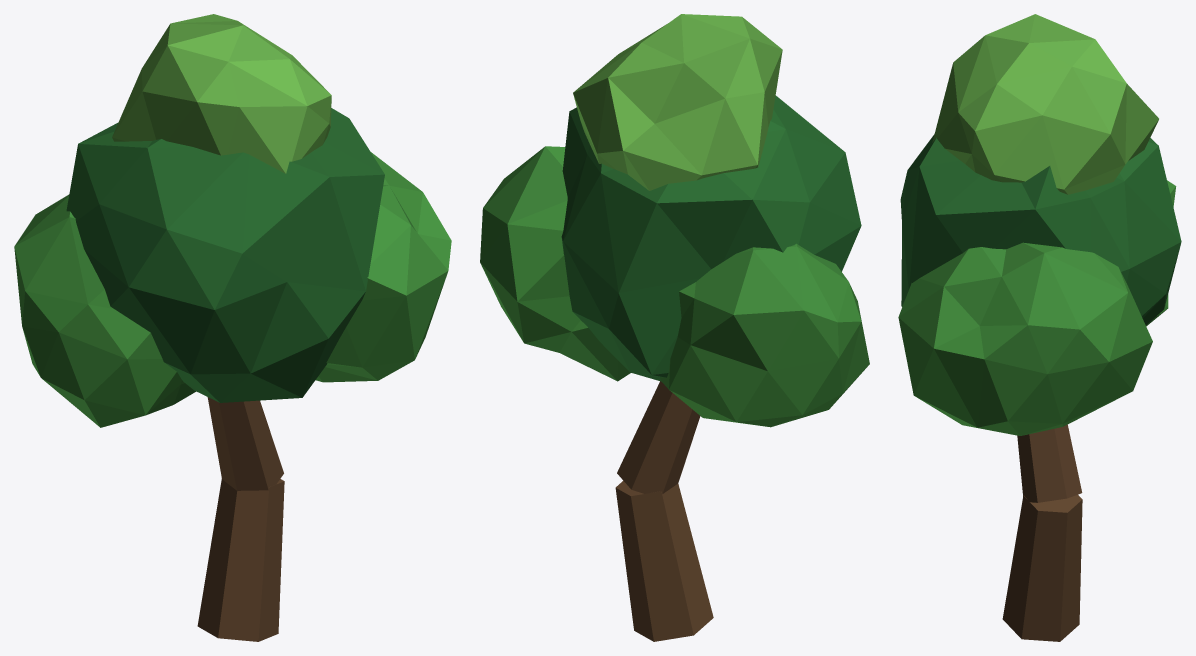
Rendered from Scatter_OakB.fbx.
3 renders of one model, left to right at view 1: azimuth 30°, elevation 25°; view 2: azimuth 150°, elevation 25°; view 3: azimuth 270°, elevation 25°, orthographic. The views are drawn at different scales.
Parts seen in each view (by area): view 1: OakB; view 2: OakB; view 3: OakB.
Boxes of the visible parts, x1=… form: OakB: x1=14, y1=14, x2=451, y2=641; OakB: x1=480, y1=14, x2=869, y2=641; OakB: x1=898, y1=14, x2=1181, y2=641.
Bounding box in the file's own units: 13.83 × 21.72 × 9.54.
